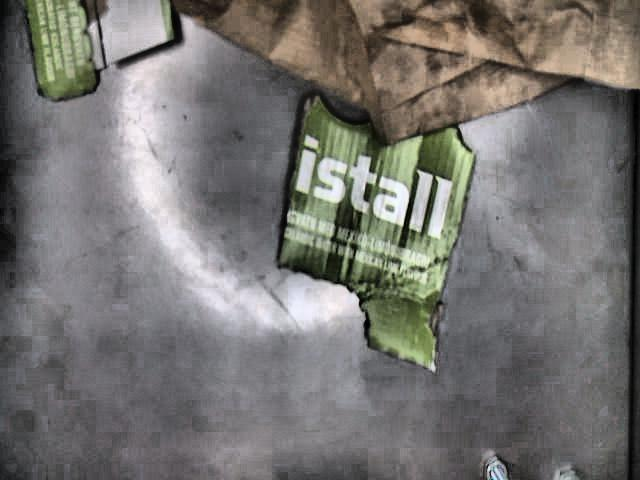Paper: (168, 0, 640, 150), (273, 93, 482, 375), (19, 0, 189, 105)
